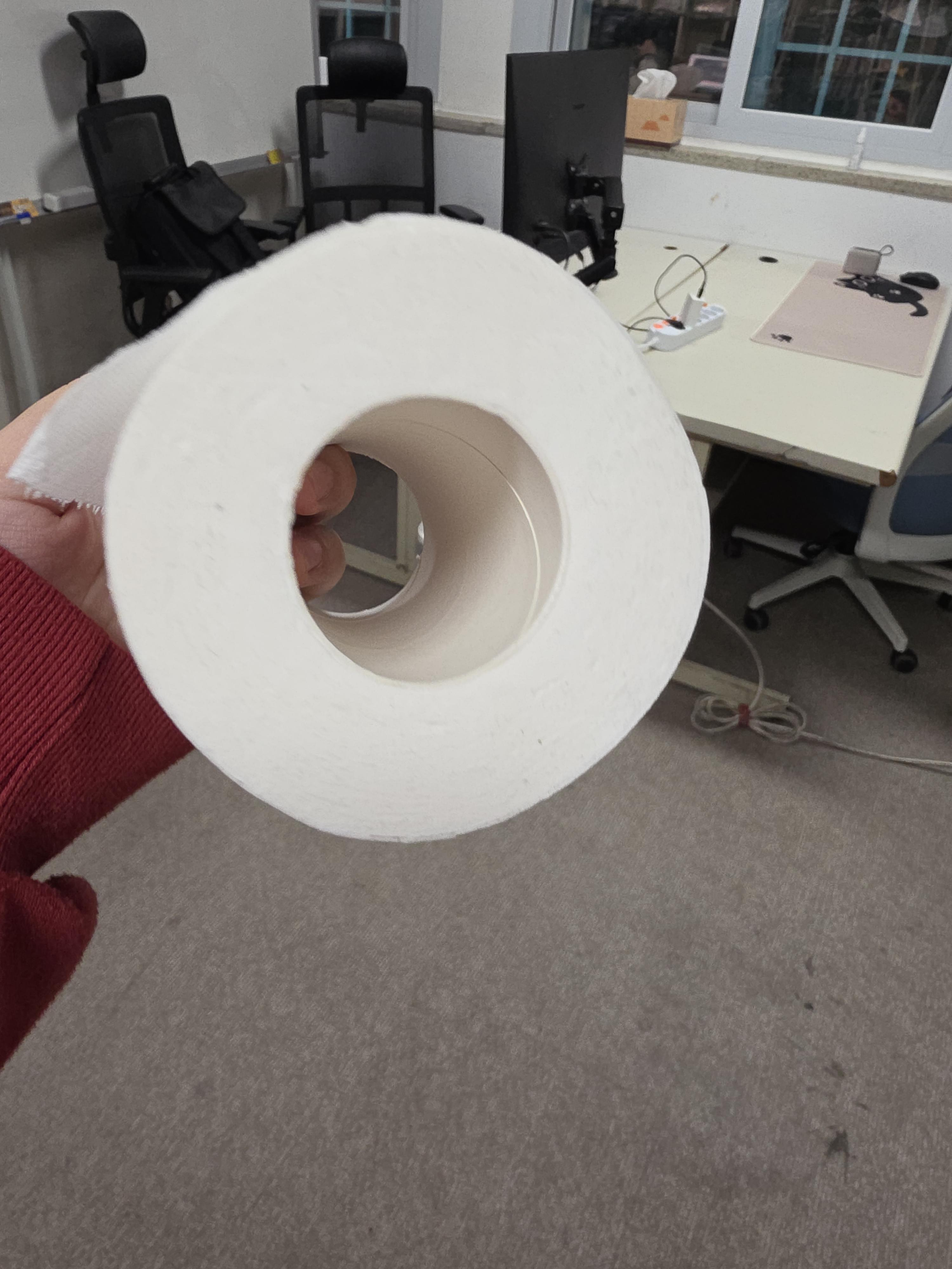tissue: (6, 212, 711, 844), (625, 68, 687, 148)
